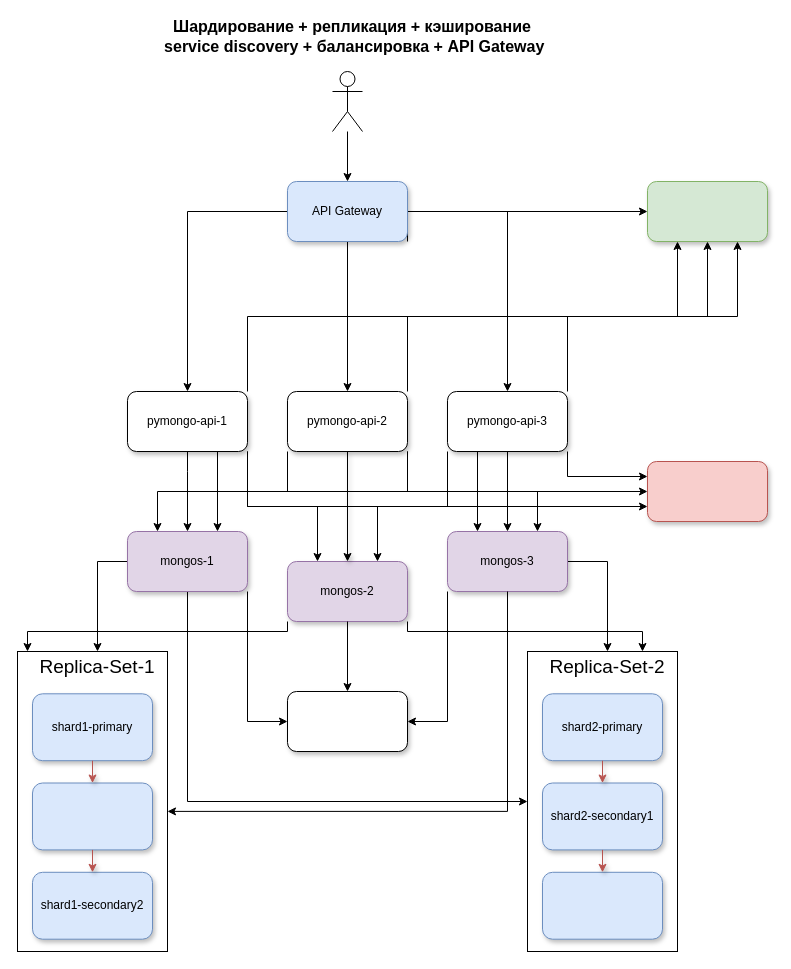
This 791x969 diagram has some shape labels left out. Here are the shapes that lost their labels. From the top down, the centre of each, then its label:
At (347,101): "Client".
At (708,212): "consul".
At (708,492): "redis".
At (348,722): "configsvr".
At (93,817): "shard1-secondary1".
At (603,906): "shard2-secondary2".
